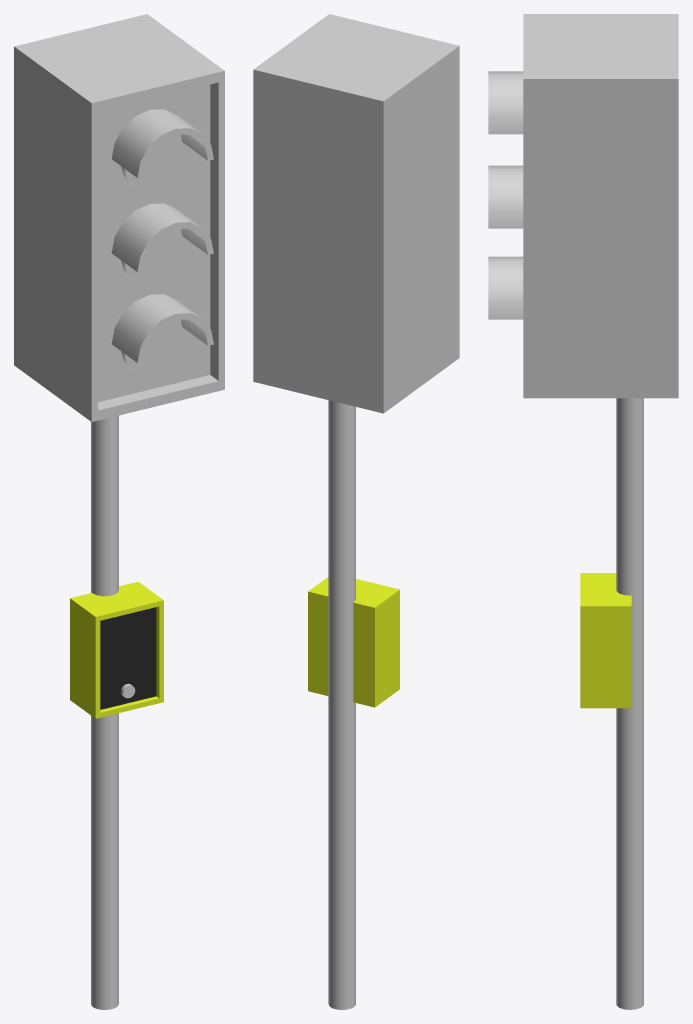
Rendered from TrafficLightsObject.FBX.
3 renders of one model, left to right at view 1: azimuth 30°, elevation 25°; view 2: azimuth 150°, elevation 25°; view 3: azimuth 270°, elevation 25°, orthographic. The views are drawn at different scales.
Parts seen in each view (by area): view 1: Box001, Cylinder001, Box002, Tube002, Tube003, Tube001, Cylinder003, Cylinder005, Cylinder004; view 2: Box001, Cylinder001, Box002; view 3: Box001, Cylinder001, Box002, Tube001, Tube002, Tube003.
Part boxes in pixels (x1,y1,x2,y2): Box001: [14, 14, 224, 421]; Cylinder001: [91, 415, 118, 1009]; Box002: [70, 581, 163, 718]; Tube002: [111, 203, 213, 271]; Tube003: [111, 294, 213, 362]; Tube001: [111, 109, 213, 177]; Cylinder003: [121, 135, 182, 189]; Cylinder005: [121, 320, 182, 374]; Cylinder004: [121, 229, 182, 284]; Box001: [253, 14, 459, 413]; Cylinder001: [328, 400, 355, 1009]; Box002: [308, 577, 399, 707]; Box001: [523, 14, 678, 398]; Cylinder001: [616, 398, 643, 1009]; Box002: [580, 573, 631, 708]; Tube001: [488, 71, 523, 134]; Tube002: [488, 165, 523, 228]; Tube003: [488, 256, 523, 319].
Size of the model in its own units: 34.8 by 239 by 43.04.
